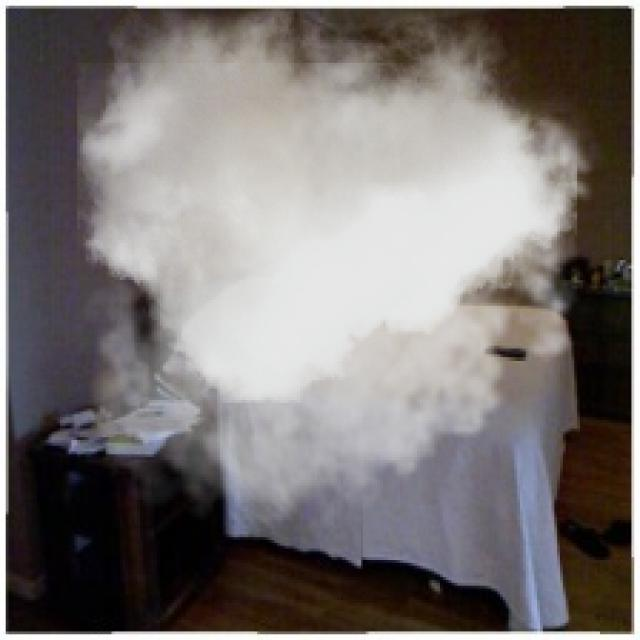smoke: (77, 8, 609, 543)
